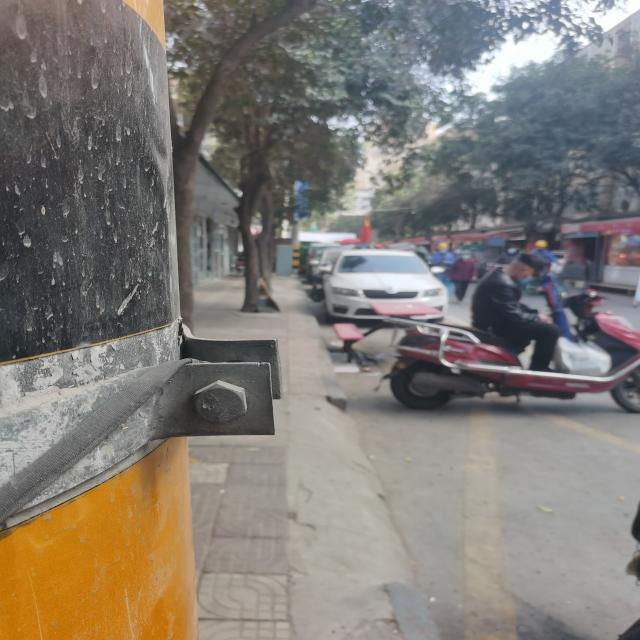bolt head: (192, 380, 248, 425)
